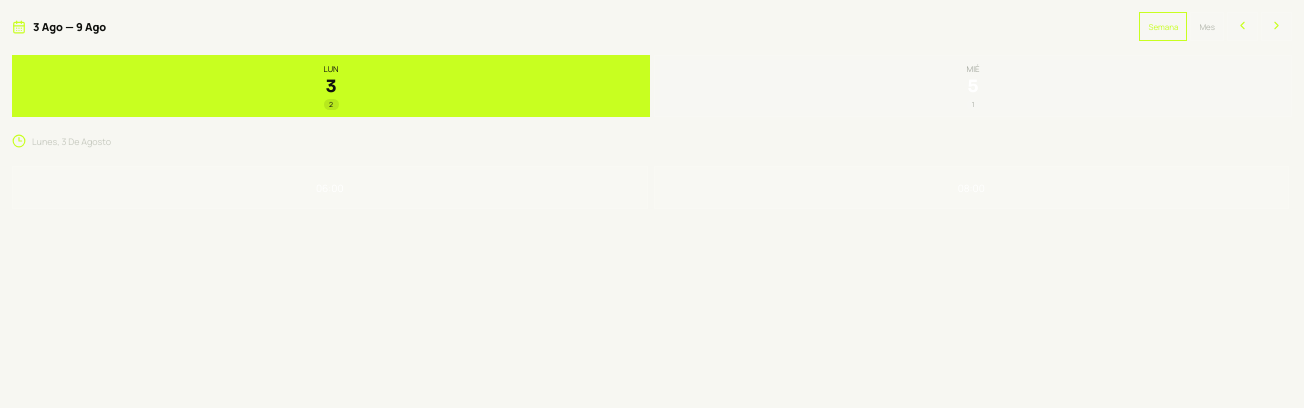
Test: AvailabilityCalendar › switches to a monthly view and keeps available days selectable
Click the button "Mes" at (1207, 26), box top-left (1190, 12), bottom-right (1224, 41)
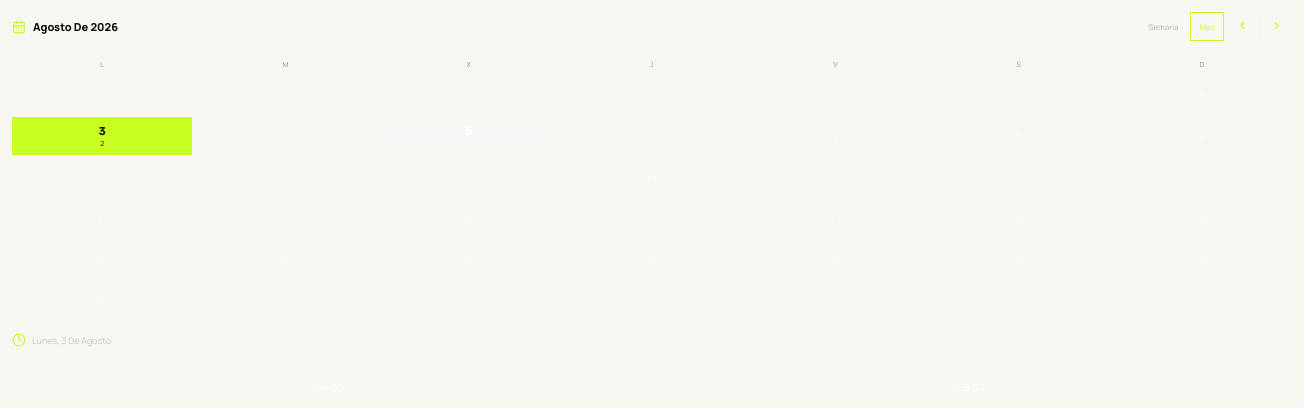
Expected: the button named "3 de agosto: 2 huecos" is enabled, top-left (12, 117), bottom-right (192, 155)
Expected: the table named "Disponibilidad mensual" is shown
